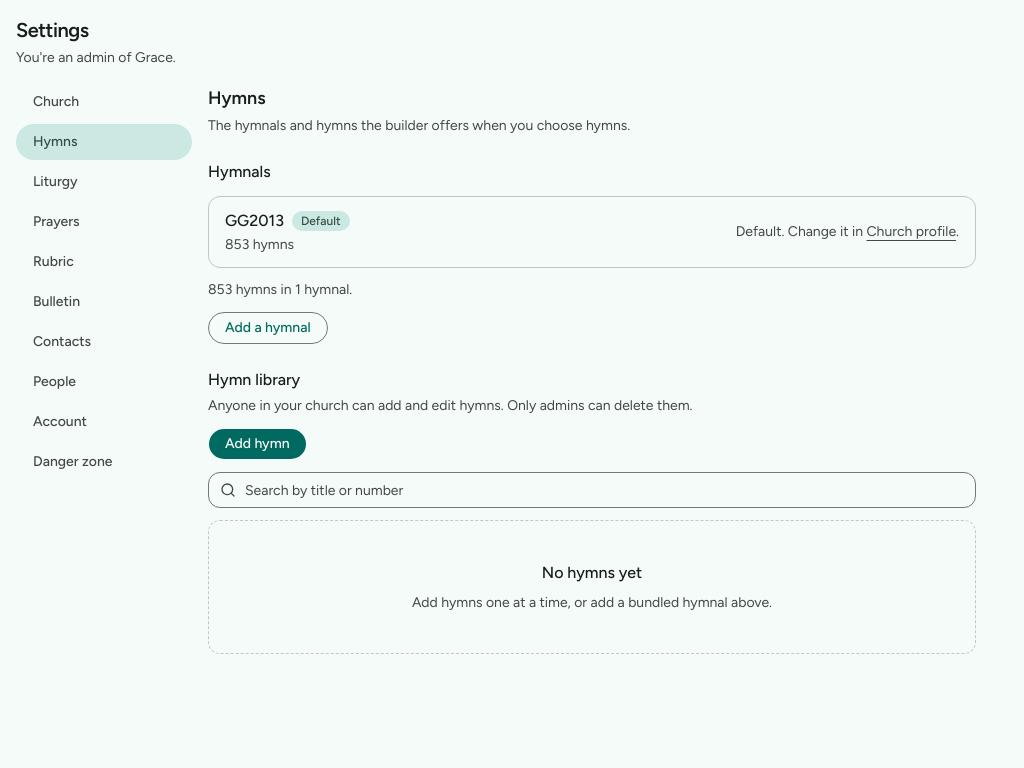
Settings → Hymns, the Hymnals card (slice 6a-2) › keeps the add dialog open while an add runs, and says it is still working after 8 s
Step 1. Click the button "Add a hymnal" → (268, 328), box x1=208 y1=312 x2=328 y2=344
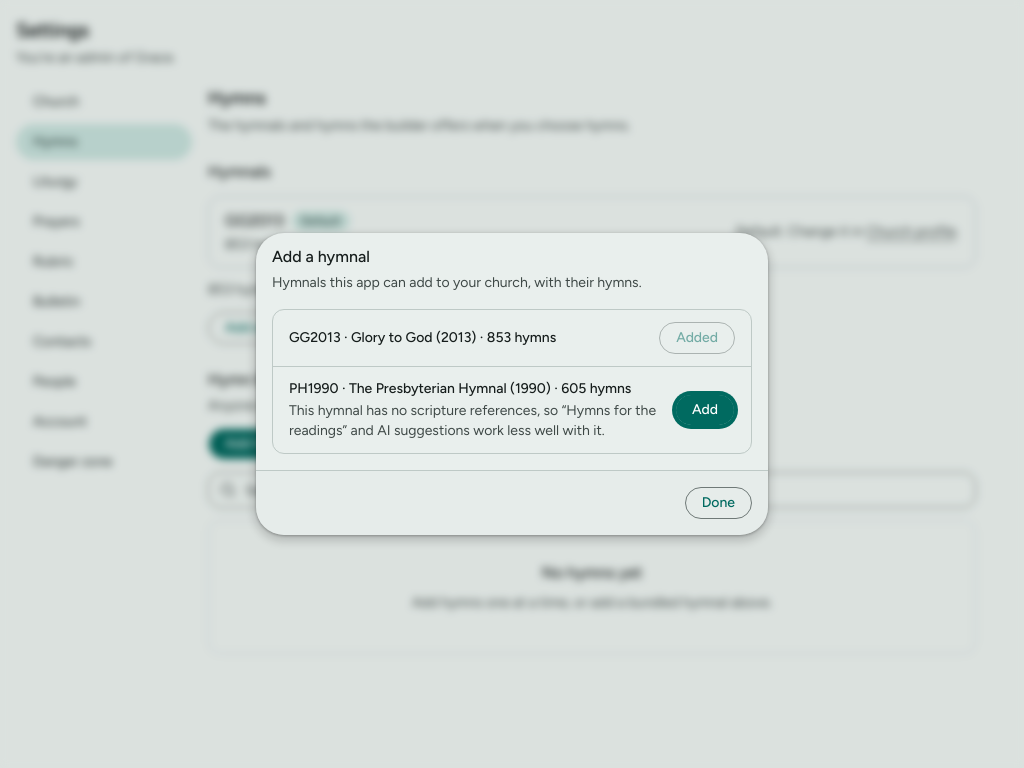
Step 2. Click the button with aria-label "Add PH1990" → (705, 410), box x1=675 y1=394 x2=735 y2=426
Wait 8000 ms
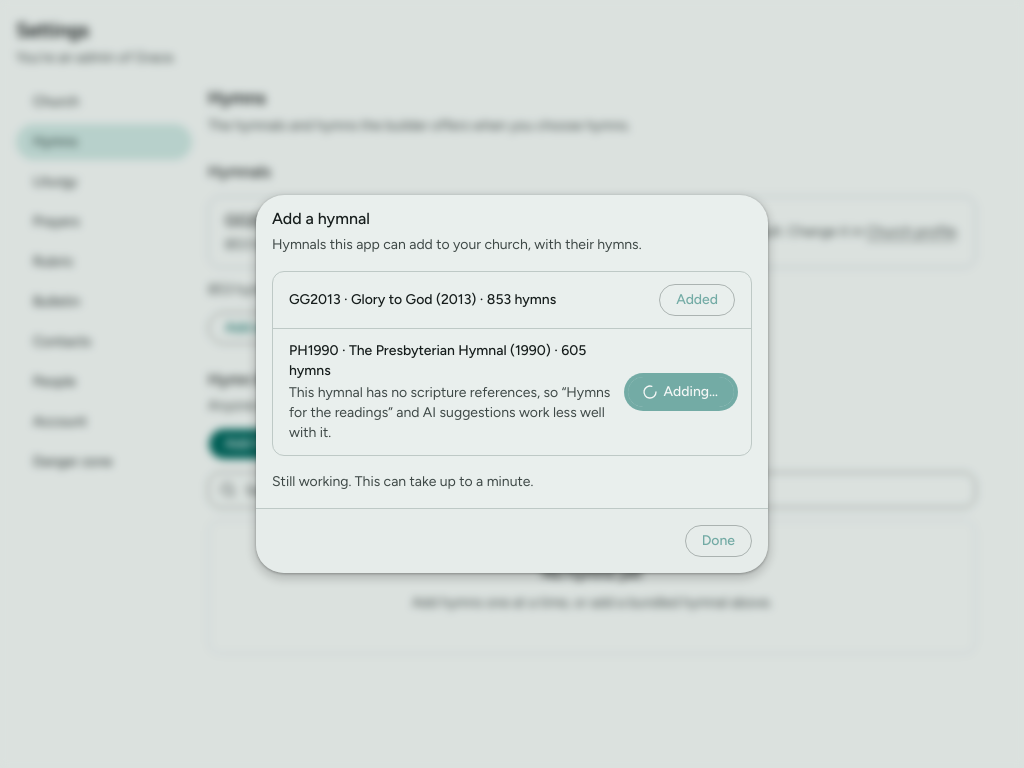
Result: the button with aria-label "Add PH1990" reads "Adding…" at x1=627 y1=376 x2=735 y2=408
Result: the button "Done" is disabled at x1=685 y1=525 x2=752 y2=557
Result: the text "Still working. This can take up to a minute." is shown at x1=272 y1=473 x2=533 y2=490
Step 3. Press Escape
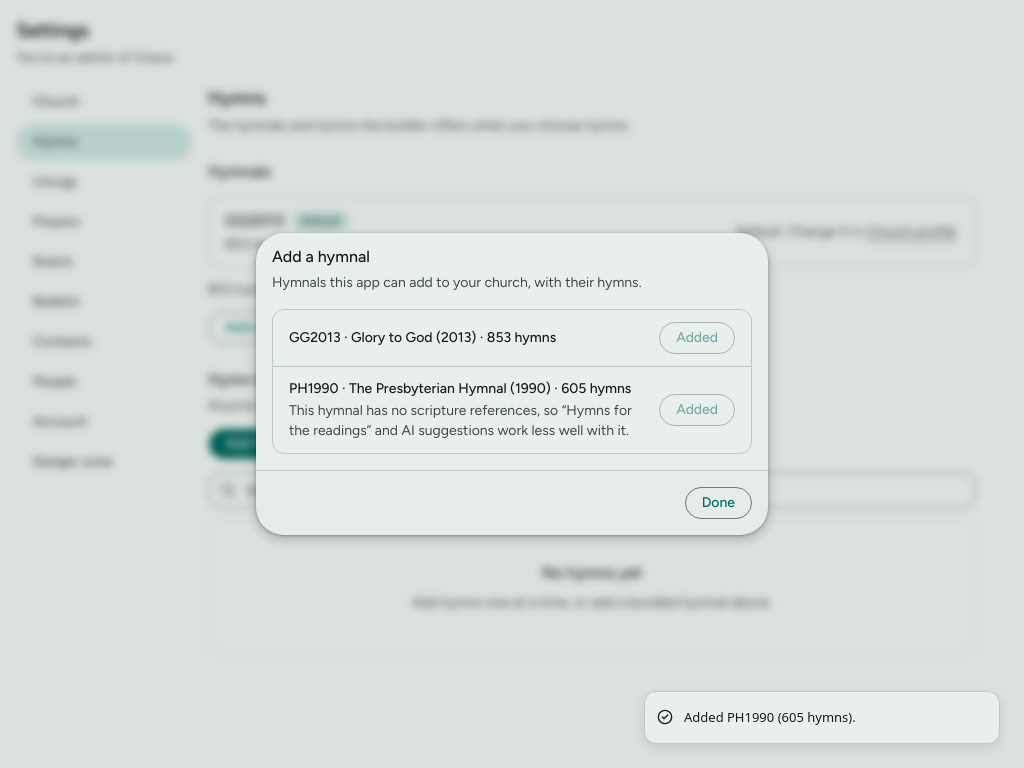
Result: the dialog "Add a hymnal" is shown at x1=256 y1=233 x2=768 y2=535
Result: the text "Added PH1990 (605 hymns)." is shown at x1=684 y1=708 x2=856 y2=727
Result: the text "Still working. This can take up to a minute." is gone
